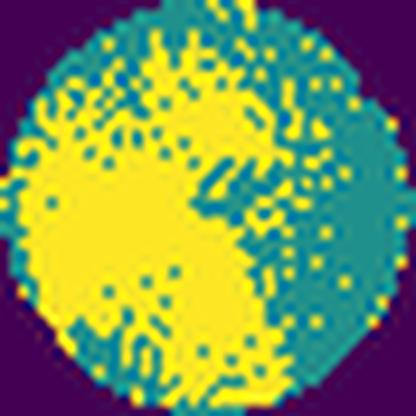Loc: (20, 24, 296, 409)
